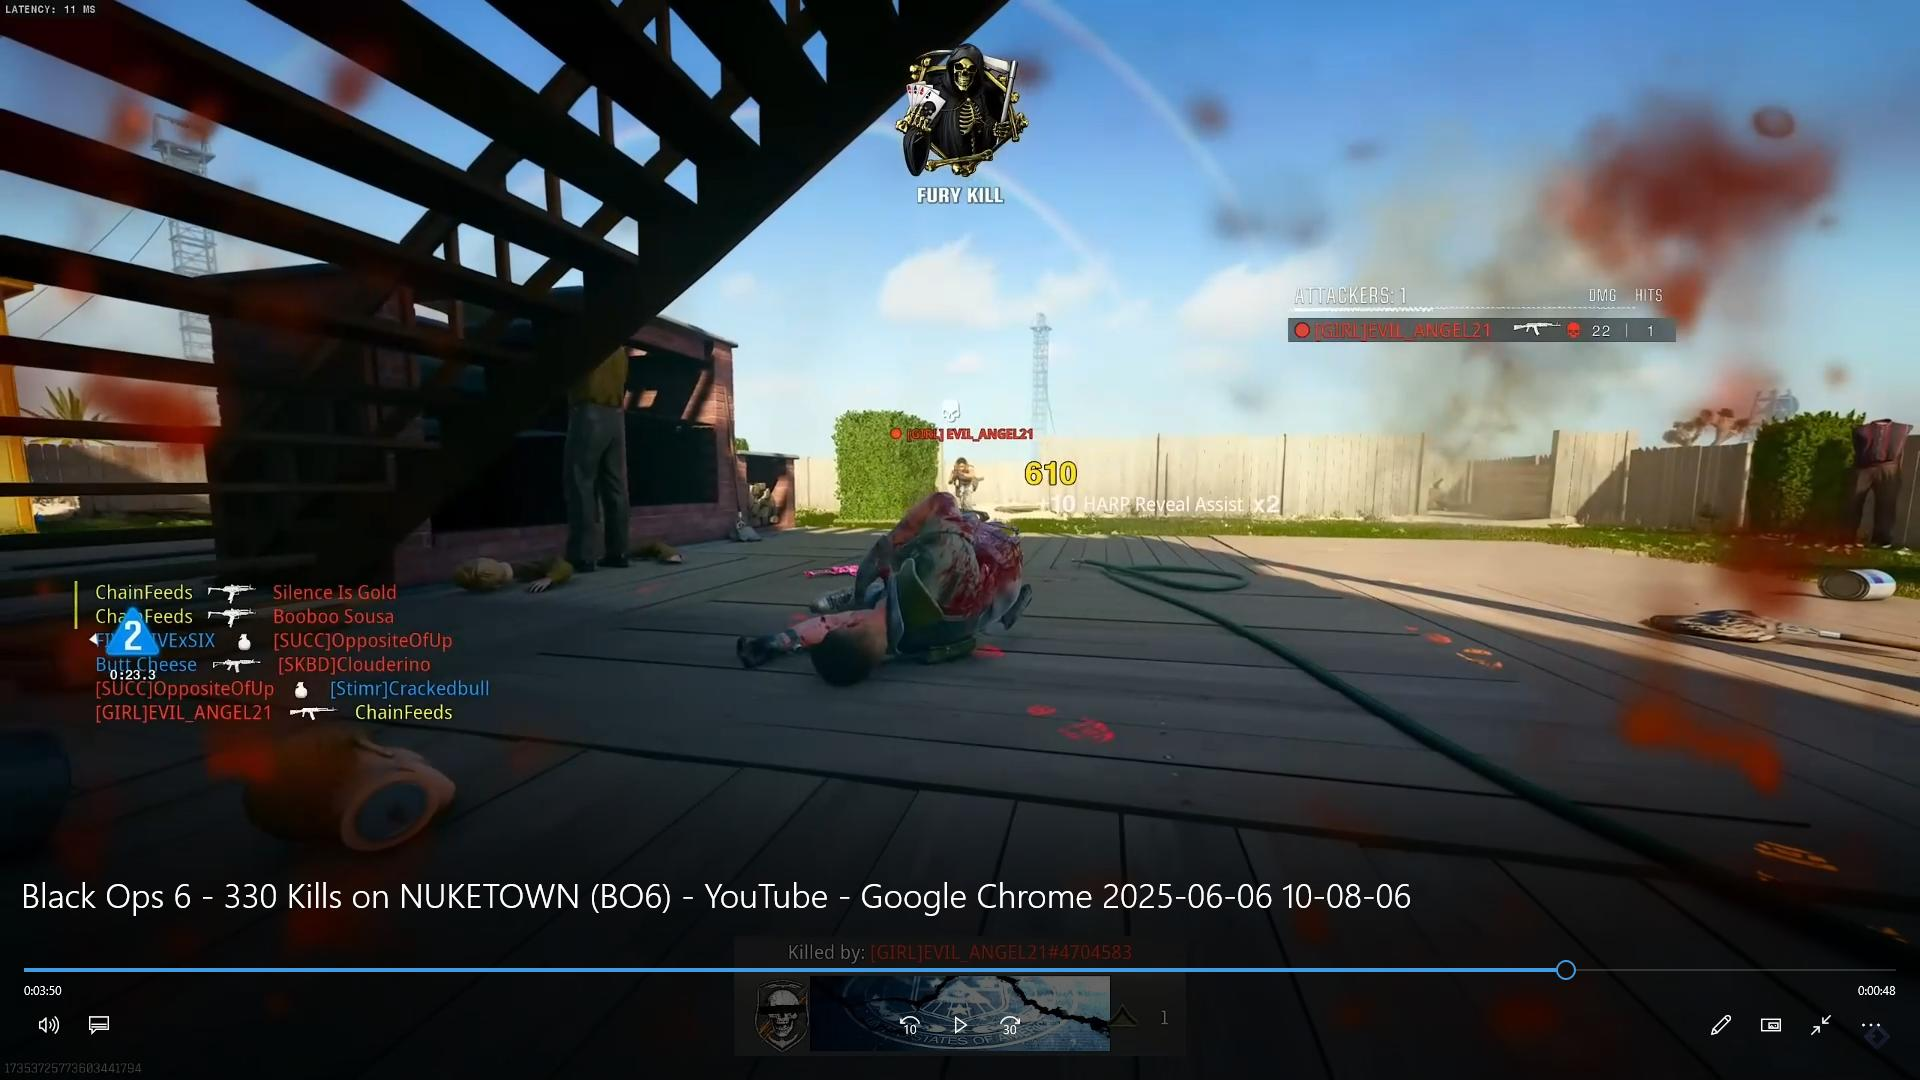Enemy: (886, 411, 1040, 513)
